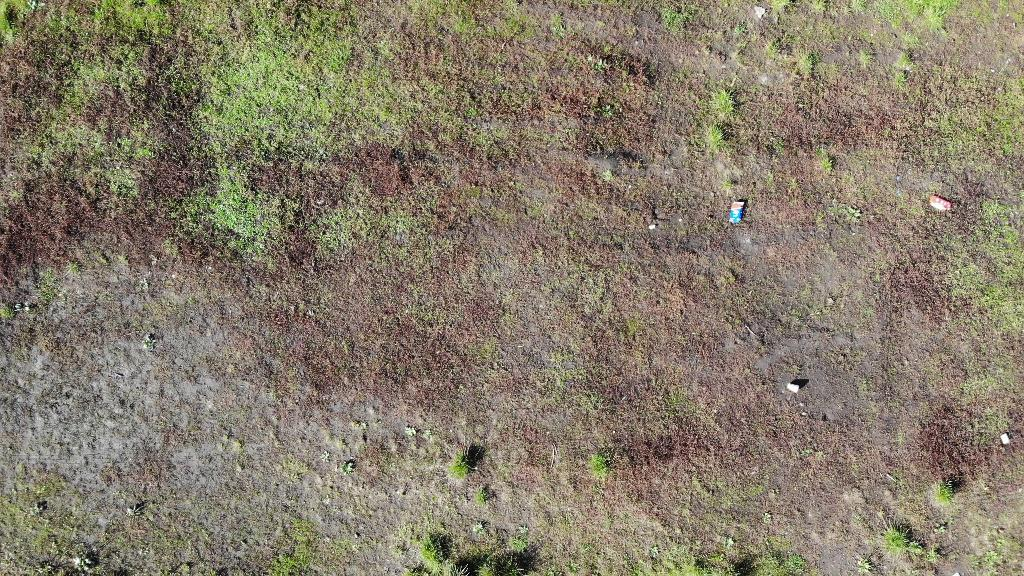garbage: (928, 190, 956, 215), (727, 195, 748, 225), (929, 194, 953, 210), (729, 201, 745, 222), (786, 384, 799, 394), (1000, 432, 1010, 444), (885, 473, 897, 483), (950, 571, 961, 576), (647, 225, 656, 230), (895, 189, 901, 195), (611, 429, 616, 433), (894, 176, 899, 180), (627, 184, 632, 188), (678, 218, 682, 221)
